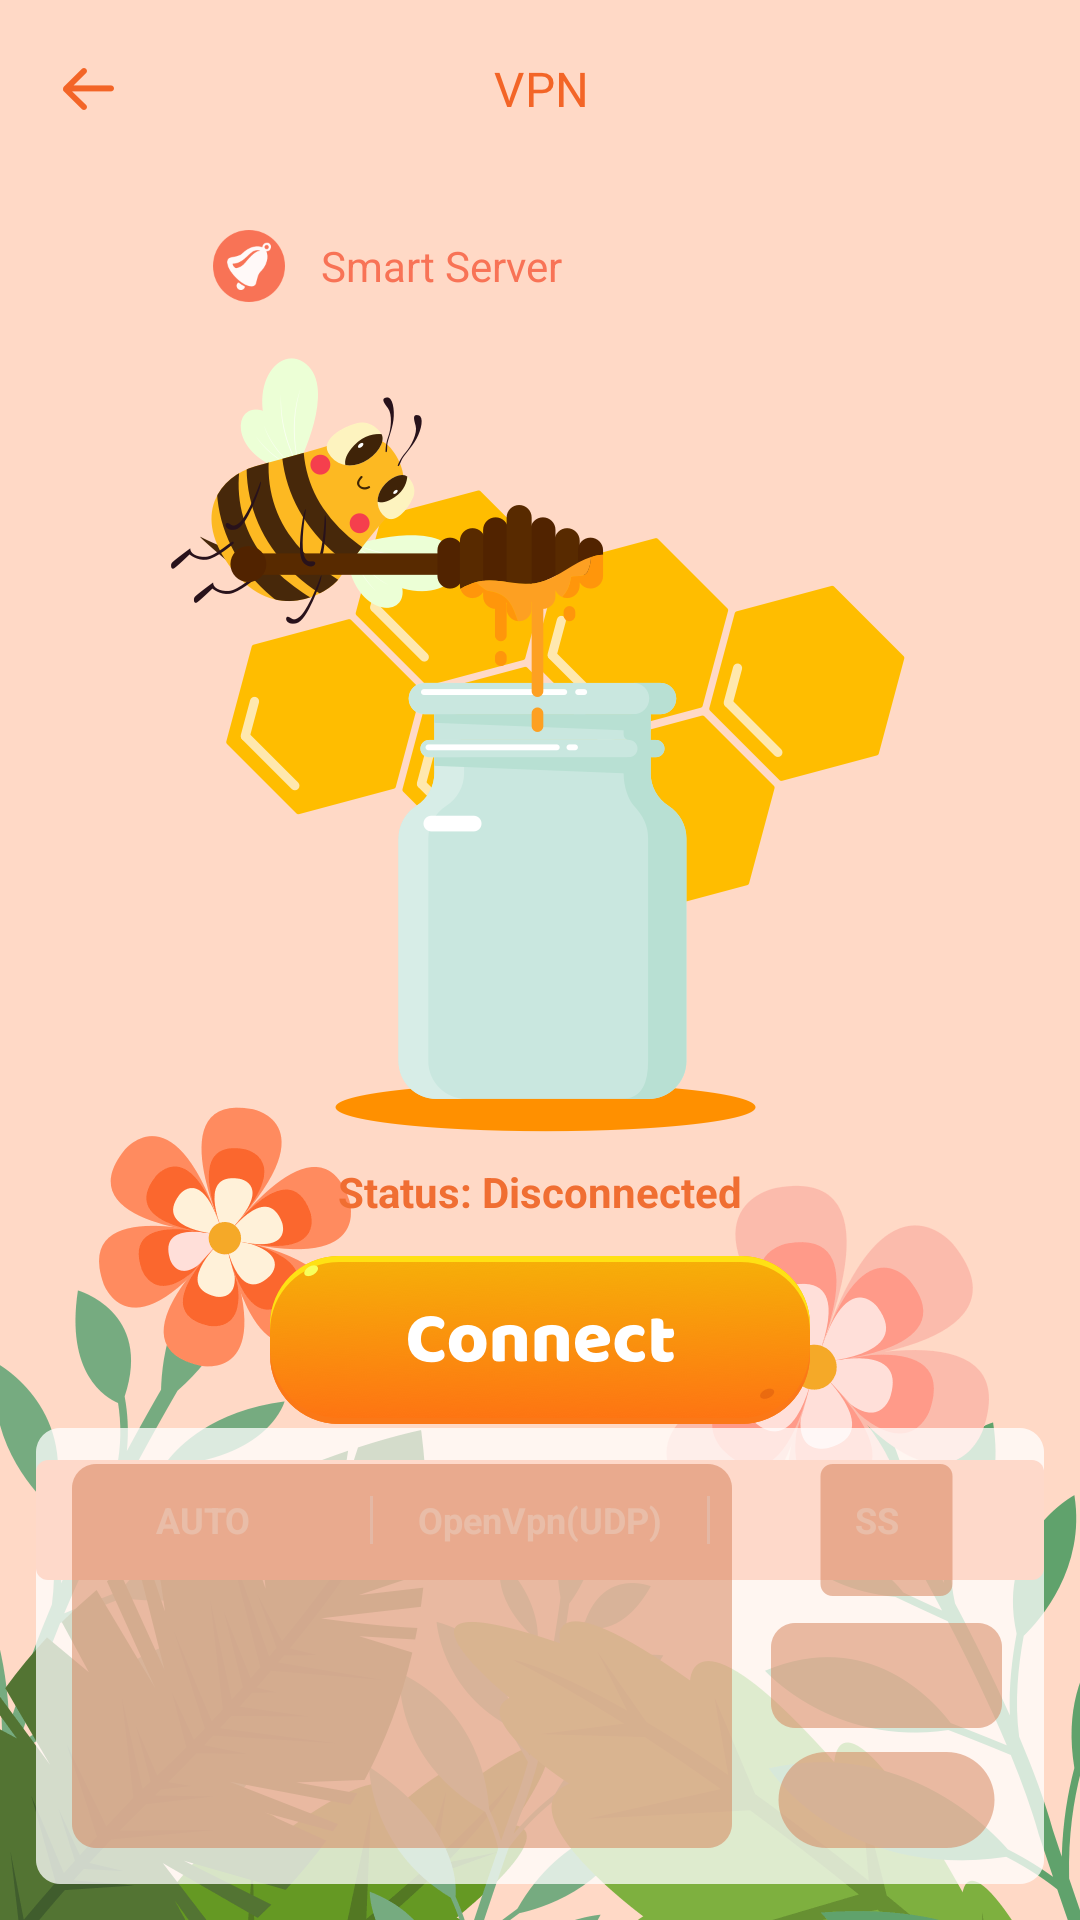

Where to tap for icons on this 1080w x 1920h app screen, as [x,y]:
back: [88,89]
